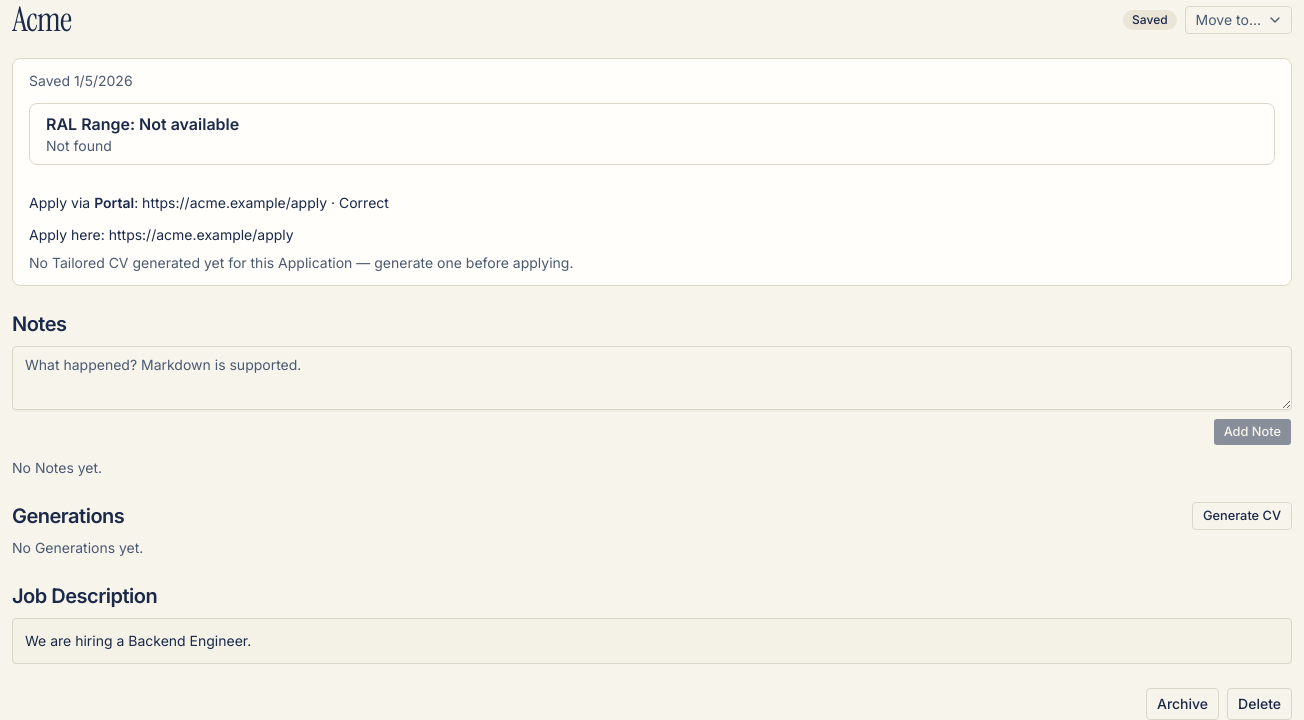
Test case: Job Listing archiving › Archive_Fails_SurfacesTheErrorInline
(page scrolled)
Step 1. Click the button "Archive" → [1183, 704], box [1146,688,1219,719]
(page scrolled)
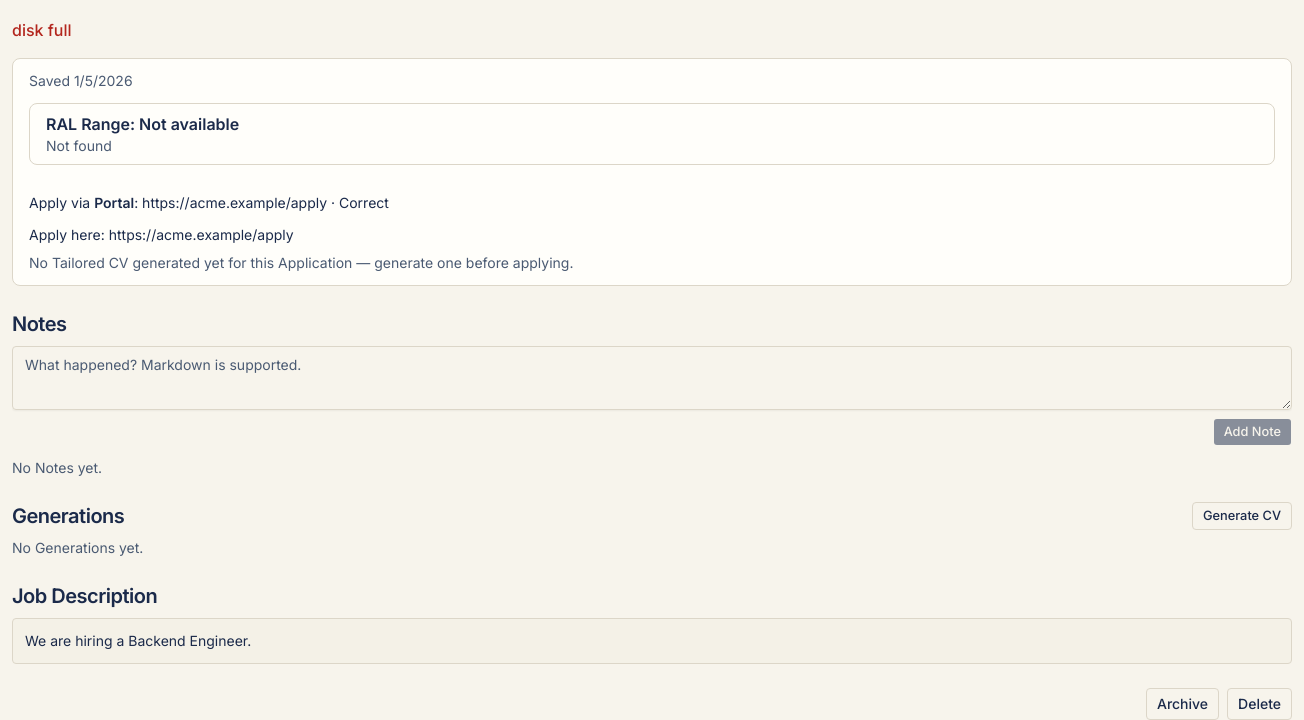
Expected: the message reads "disk full", [12,20,72,40]
